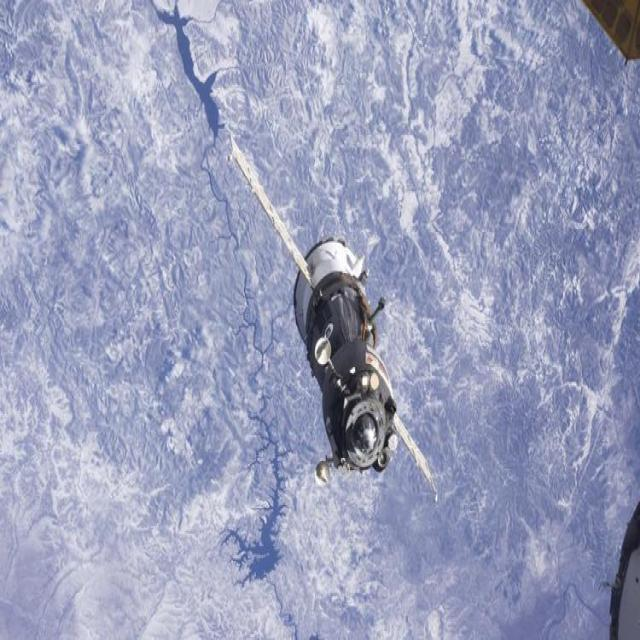medium_debris: (232, 136, 438, 500)
